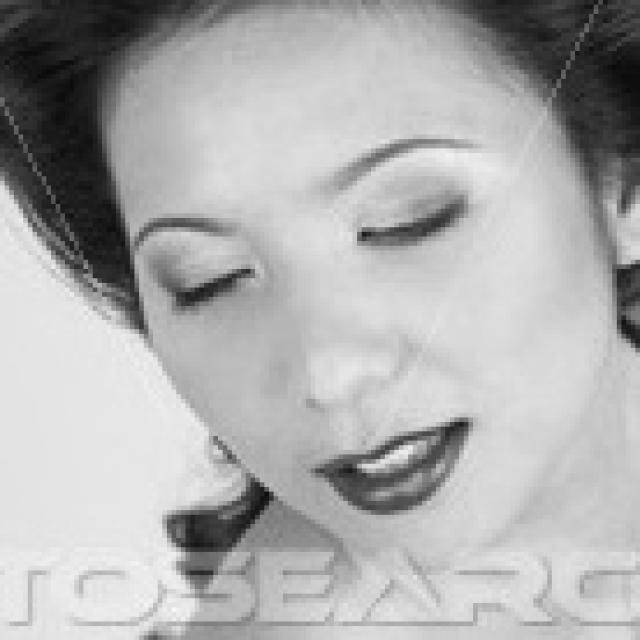real: (102, 0, 614, 565), (130, 192, 492, 324)
